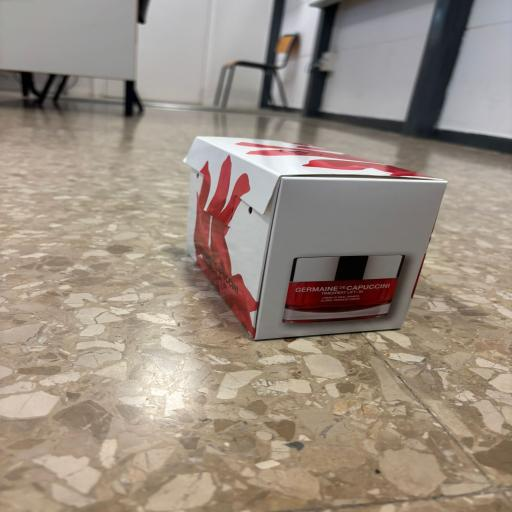caja_2: (183, 136, 446, 340)
